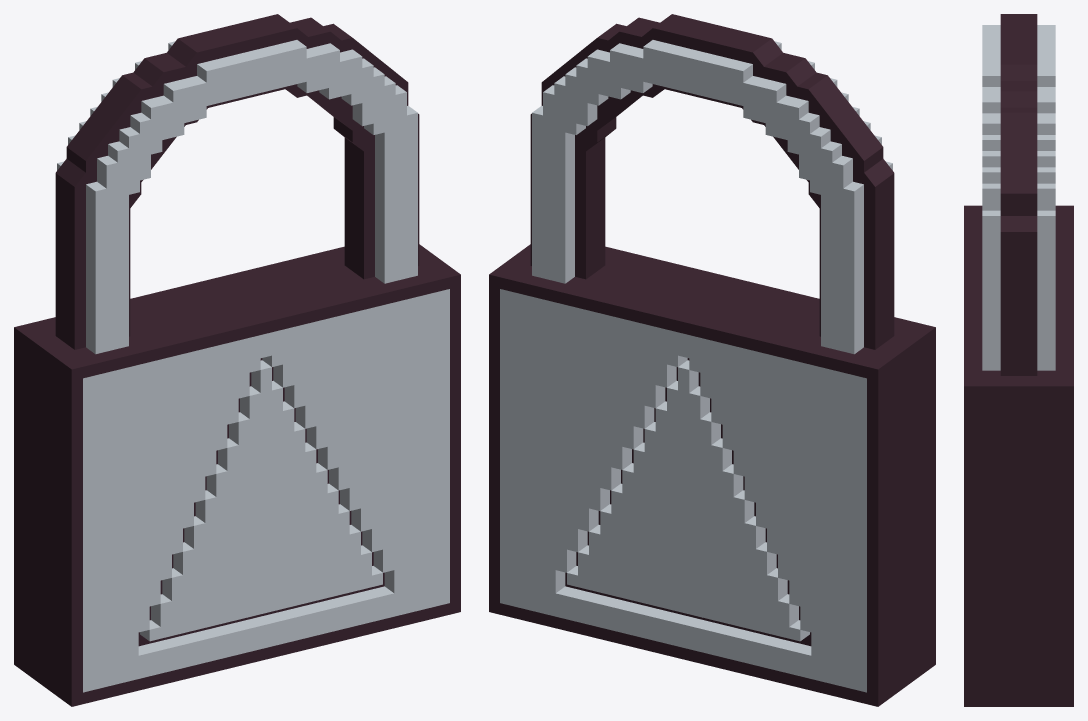
Rendered from Triangle Padlock.fbx.
The picture shows the model from 3 angles, left to right: view 1: azimuth 30°, elevation 25°; view 2: azimuth 150°, elevation 25°; view 3: azimuth 270°, elevation 25°; orthographic projection. The views are drawn at different scales.
Parts seen in each view (by area): view 1: generated; view 2: generated; view 3: generated.
Part boxes in pixels (bbox=[...]): generated: bbox=[14, 14, 460, 706]; generated: bbox=[489, 14, 935, 706]; generated: bbox=[964, 14, 1073, 706].
Size of the model in its own units: 1400 by 2080 by 360.
